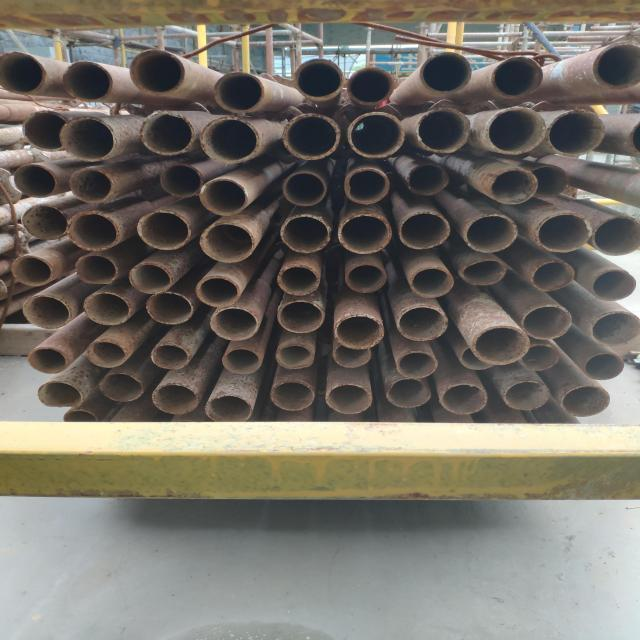pipe: (198, 116, 260, 164), (484, 106, 546, 154), (282, 113, 340, 160), (546, 109, 604, 156), (348, 111, 404, 159), (59, 116, 116, 162), (140, 110, 194, 156), (129, 49, 184, 94), (534, 212, 591, 253), (416, 109, 470, 152), (593, 40, 640, 89), (419, 52, 472, 94), (200, 222, 254, 263), (338, 213, 392, 254), (490, 56, 542, 98), (472, 326, 529, 364), (66, 212, 120, 252), (137, 210, 190, 250), (213, 72, 264, 113), (293, 58, 344, 99), (463, 214, 518, 252), (63, 61, 113, 102), (280, 213, 331, 253), (0, 51, 47, 94), (22, 110, 70, 152), (398, 212, 450, 250), (592, 216, 639, 256), (346, 66, 394, 105), (396, 305, 448, 341), (521, 304, 572, 340), (200, 178, 248, 216), (590, 310, 640, 346), (490, 168, 538, 205), (334, 314, 384, 349), (560, 384, 611, 418), (20, 204, 68, 240), (22, 294, 72, 328), (82, 292, 132, 326), (145, 291, 194, 325), (210, 307, 258, 341), (276, 300, 324, 334), (282, 170, 326, 207), (344, 168, 389, 204), (68, 168, 114, 203), (150, 382, 200, 414), (193, 275, 240, 308), (159, 163, 203, 198), (325, 382, 373, 414), (440, 382, 488, 414), (13, 164, 58, 198), (500, 380, 550, 410), (590, 269, 636, 301), (409, 266, 454, 298), (384, 378, 432, 408), (128, 262, 172, 294), (276, 264, 320, 296), (407, 162, 449, 195), (11, 254, 54, 286), (74, 253, 118, 284), (531, 260, 575, 291), (99, 372, 144, 402), (270, 380, 315, 410), (458, 258, 506, 286), (204, 394, 252, 422), (37, 380, 84, 408), (344, 262, 387, 292), (532, 164, 568, 198), (86, 340, 127, 368), (583, 352, 624, 380), (28, 346, 68, 374), (518, 344, 558, 372), (222, 347, 262, 374), (397, 351, 437, 378), (274, 343, 314, 369), (151, 344, 190, 369), (332, 344, 372, 368), (459, 346, 494, 370), (63, 410, 99, 422)
